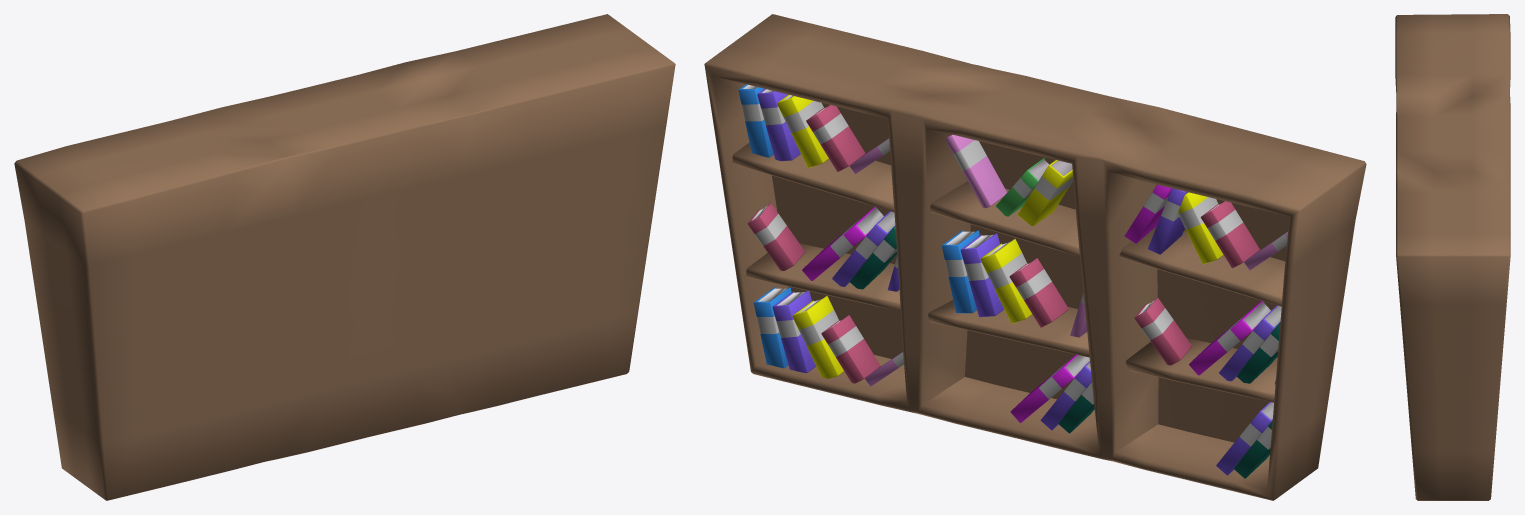
The model's file is props_library_extra_large.fbx.
3 views of the same model, side by side, from view 1: azimuth 30°, elevation 25°; view 2: azimuth 150°, elevation 25°; view 3: azimuth 270°, elevation 25° (orthographic). The views are drawn at different scales.
Visible parts, largest first — view 1: Library.021; view 2: Library.021; view 3: Library.021.
Boxes of the visible parts, bbox=[...] form: Library.021: bbox=[14, 14, 675, 500]; Library.021: bbox=[704, 14, 1366, 500]; Library.021: bbox=[1395, 14, 1510, 500].
Bounding box in the file's own units: 5.75 × 1.15 × 2.89.
